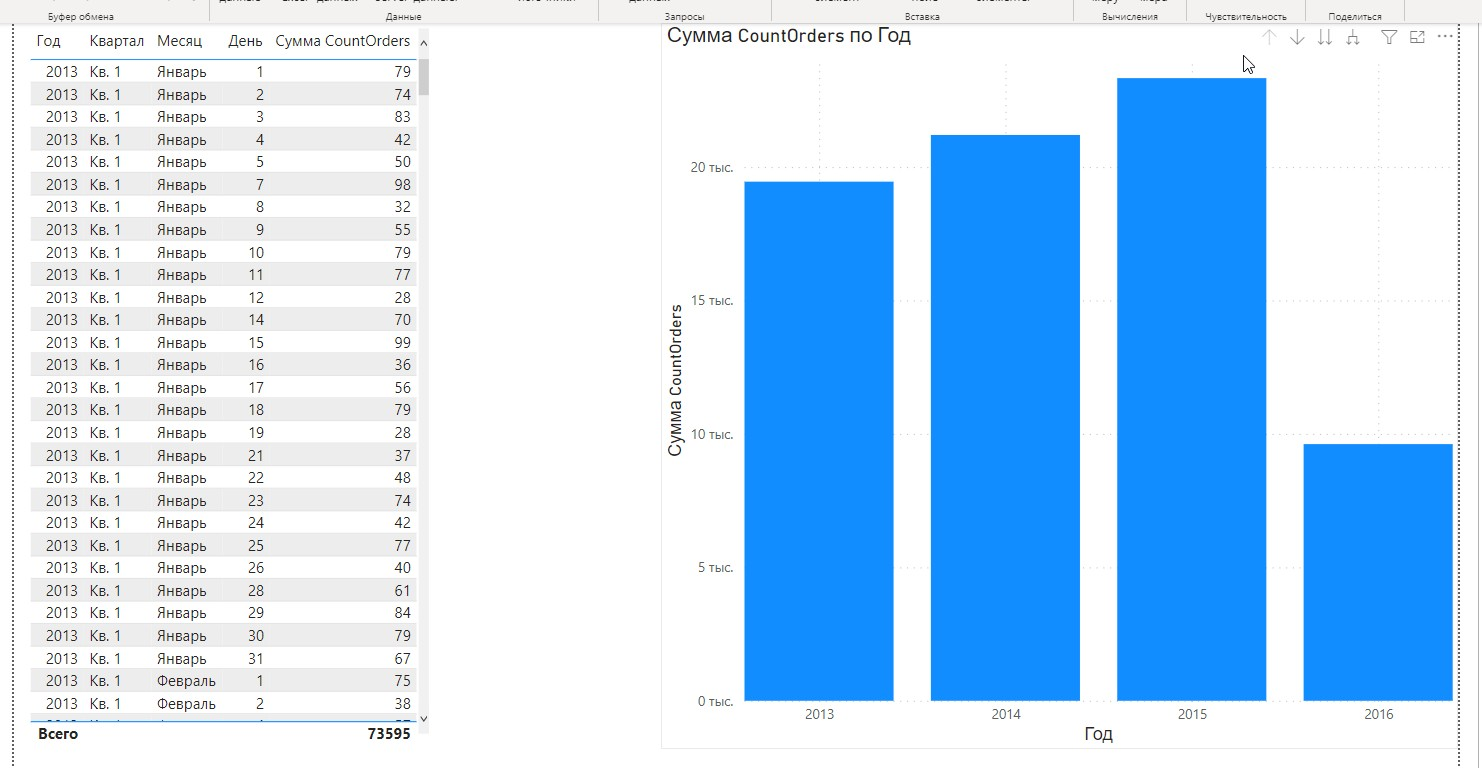

The page's visual inventory and layout, read from the dashboard file:
{"tool":"powerbi","page":{"name":"Страница 1","canvas":[1280,720],"ordinal":0},"visuals":[{"type":"tableEx","fields":{"Values":["OrdersByClients (2).OrderDate.Изменение.Иерархия дат.Год","OrdersByClients (2).OrderDate.Изменение.Иерархия дат.Квартал","OrdersByClients (2).OrderDate.Изменение.Иерархия дат.Месяц","OrdersByClients (2).OrderDate.Изменение.Иерархия дат.День","Sum(OrdersByClients (2).CountOrders)"]},"box":[8.9,0,363.5,643.7],"z":0},{"type":"columnChart","fields":{"Category":["OrdersByClients (2).OrderDate.Изменение.Иерархия дат.Год","OrdersByClients (2).OrderDate.Изменение.Иерархия дат.Квартал","OrdersByClients (2).OrderDate.Изменение.Иерархия дат.Месяц","OrdersByClients (2).OrderDate.Изменение.Иерархия дат.День"],"Y":["Sum(OrdersByClients (2).CountOrders)"]},"box":[573.7,0,706.7,643.7],"z":1}]}

Visuals, with their boxes in screenshot pixels (x1, y1, x2, y2):
tableEx - OrdersByClients (2).OrderDate.Изменение.Иерархия дат.Год x OrdersByClients (2).OrderDate.Изменение.Иерархия дат.Квартал: <box>148,23,531,700</box>
columnChart - OrdersByClients (2).OrderDate.Изменение.Иерархия дат.Год x OrdersByClients (2).OrderDate.Изменение.Иерархия дат.Квартал: <box>742,23,1481,700</box>
